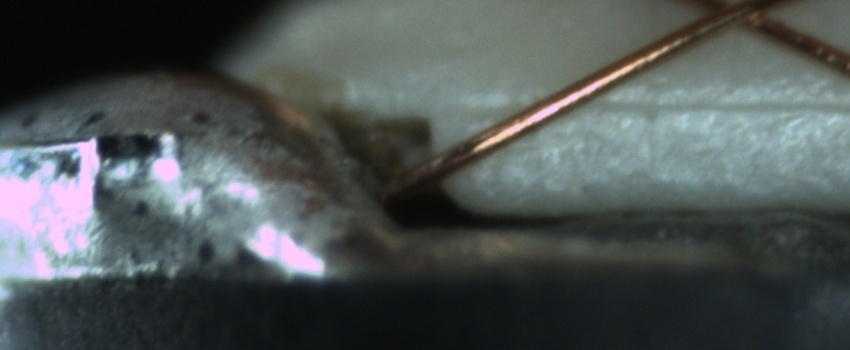CL: (680, 0, 792, 38)
DL: (470, 73, 849, 138)
